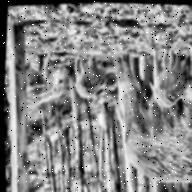boar: (105, 42, 192, 190), (4, 51, 72, 113), (146, 44, 192, 110), (70, 54, 109, 100)
